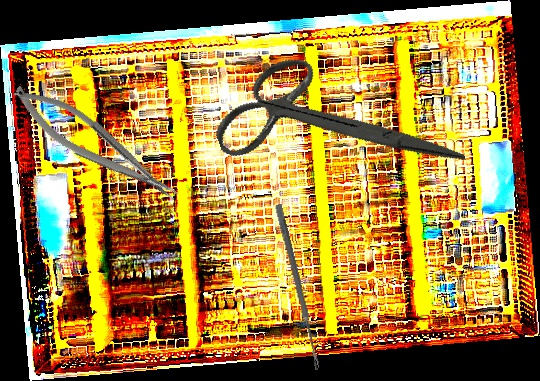Iris Scissors: (200, 14, 466, 237)
Needle Holder: (5, 72, 185, 218)
Surgical Spoon: (273, 203, 323, 371)
